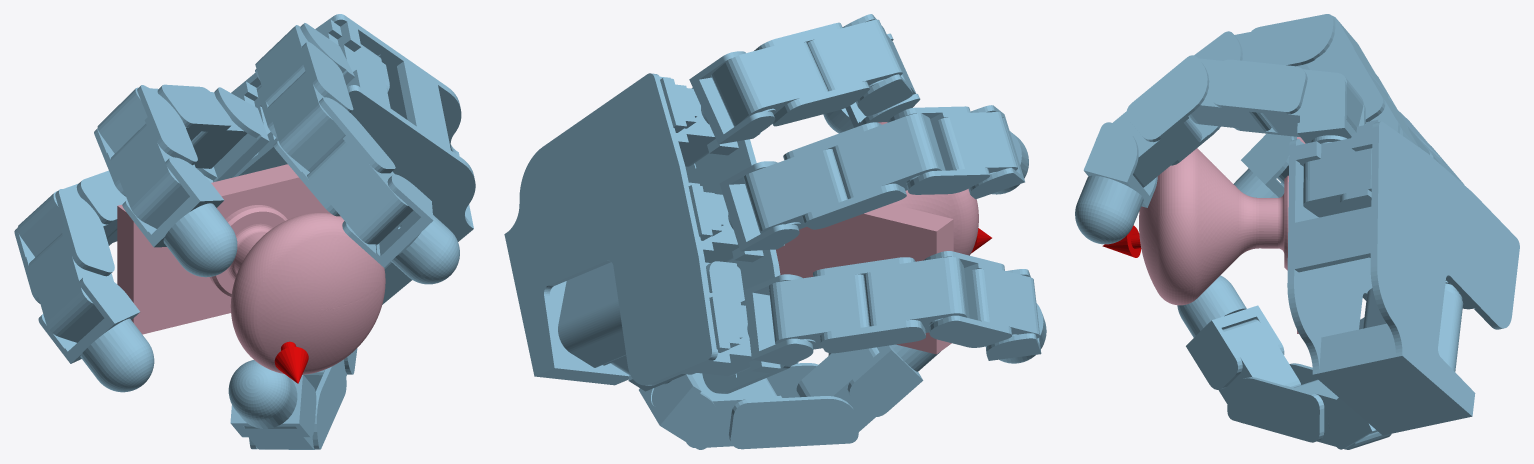
3 renders of one model, left to right at view 1: azimuth 30°, elevation 25°; view 2: azimuth 150°, elevation 25°; view 3: azimuth 270°, elevation 25°, orthographic. The views are drawn at different scales.
Visible parts, largest first — view 1: world, door_knob.stl; view 2: world, door_knob.stl; view 3: world, door_knob.stl.
Boxes of the visible parts, x1,y1,x2,y2 form: world: [14, 14, 475, 449]; door_knob.stl: [117, 164, 385, 374]; world: [504, 14, 1046, 449]; door_knob.stl: [776, 122, 978, 354]; world: [1075, 14, 1519, 449]; door_knob.stl: [1139, 137, 1305, 333].
Bounding box in the file's own units: 0.2053 × 0.1616 × 0.1759.
